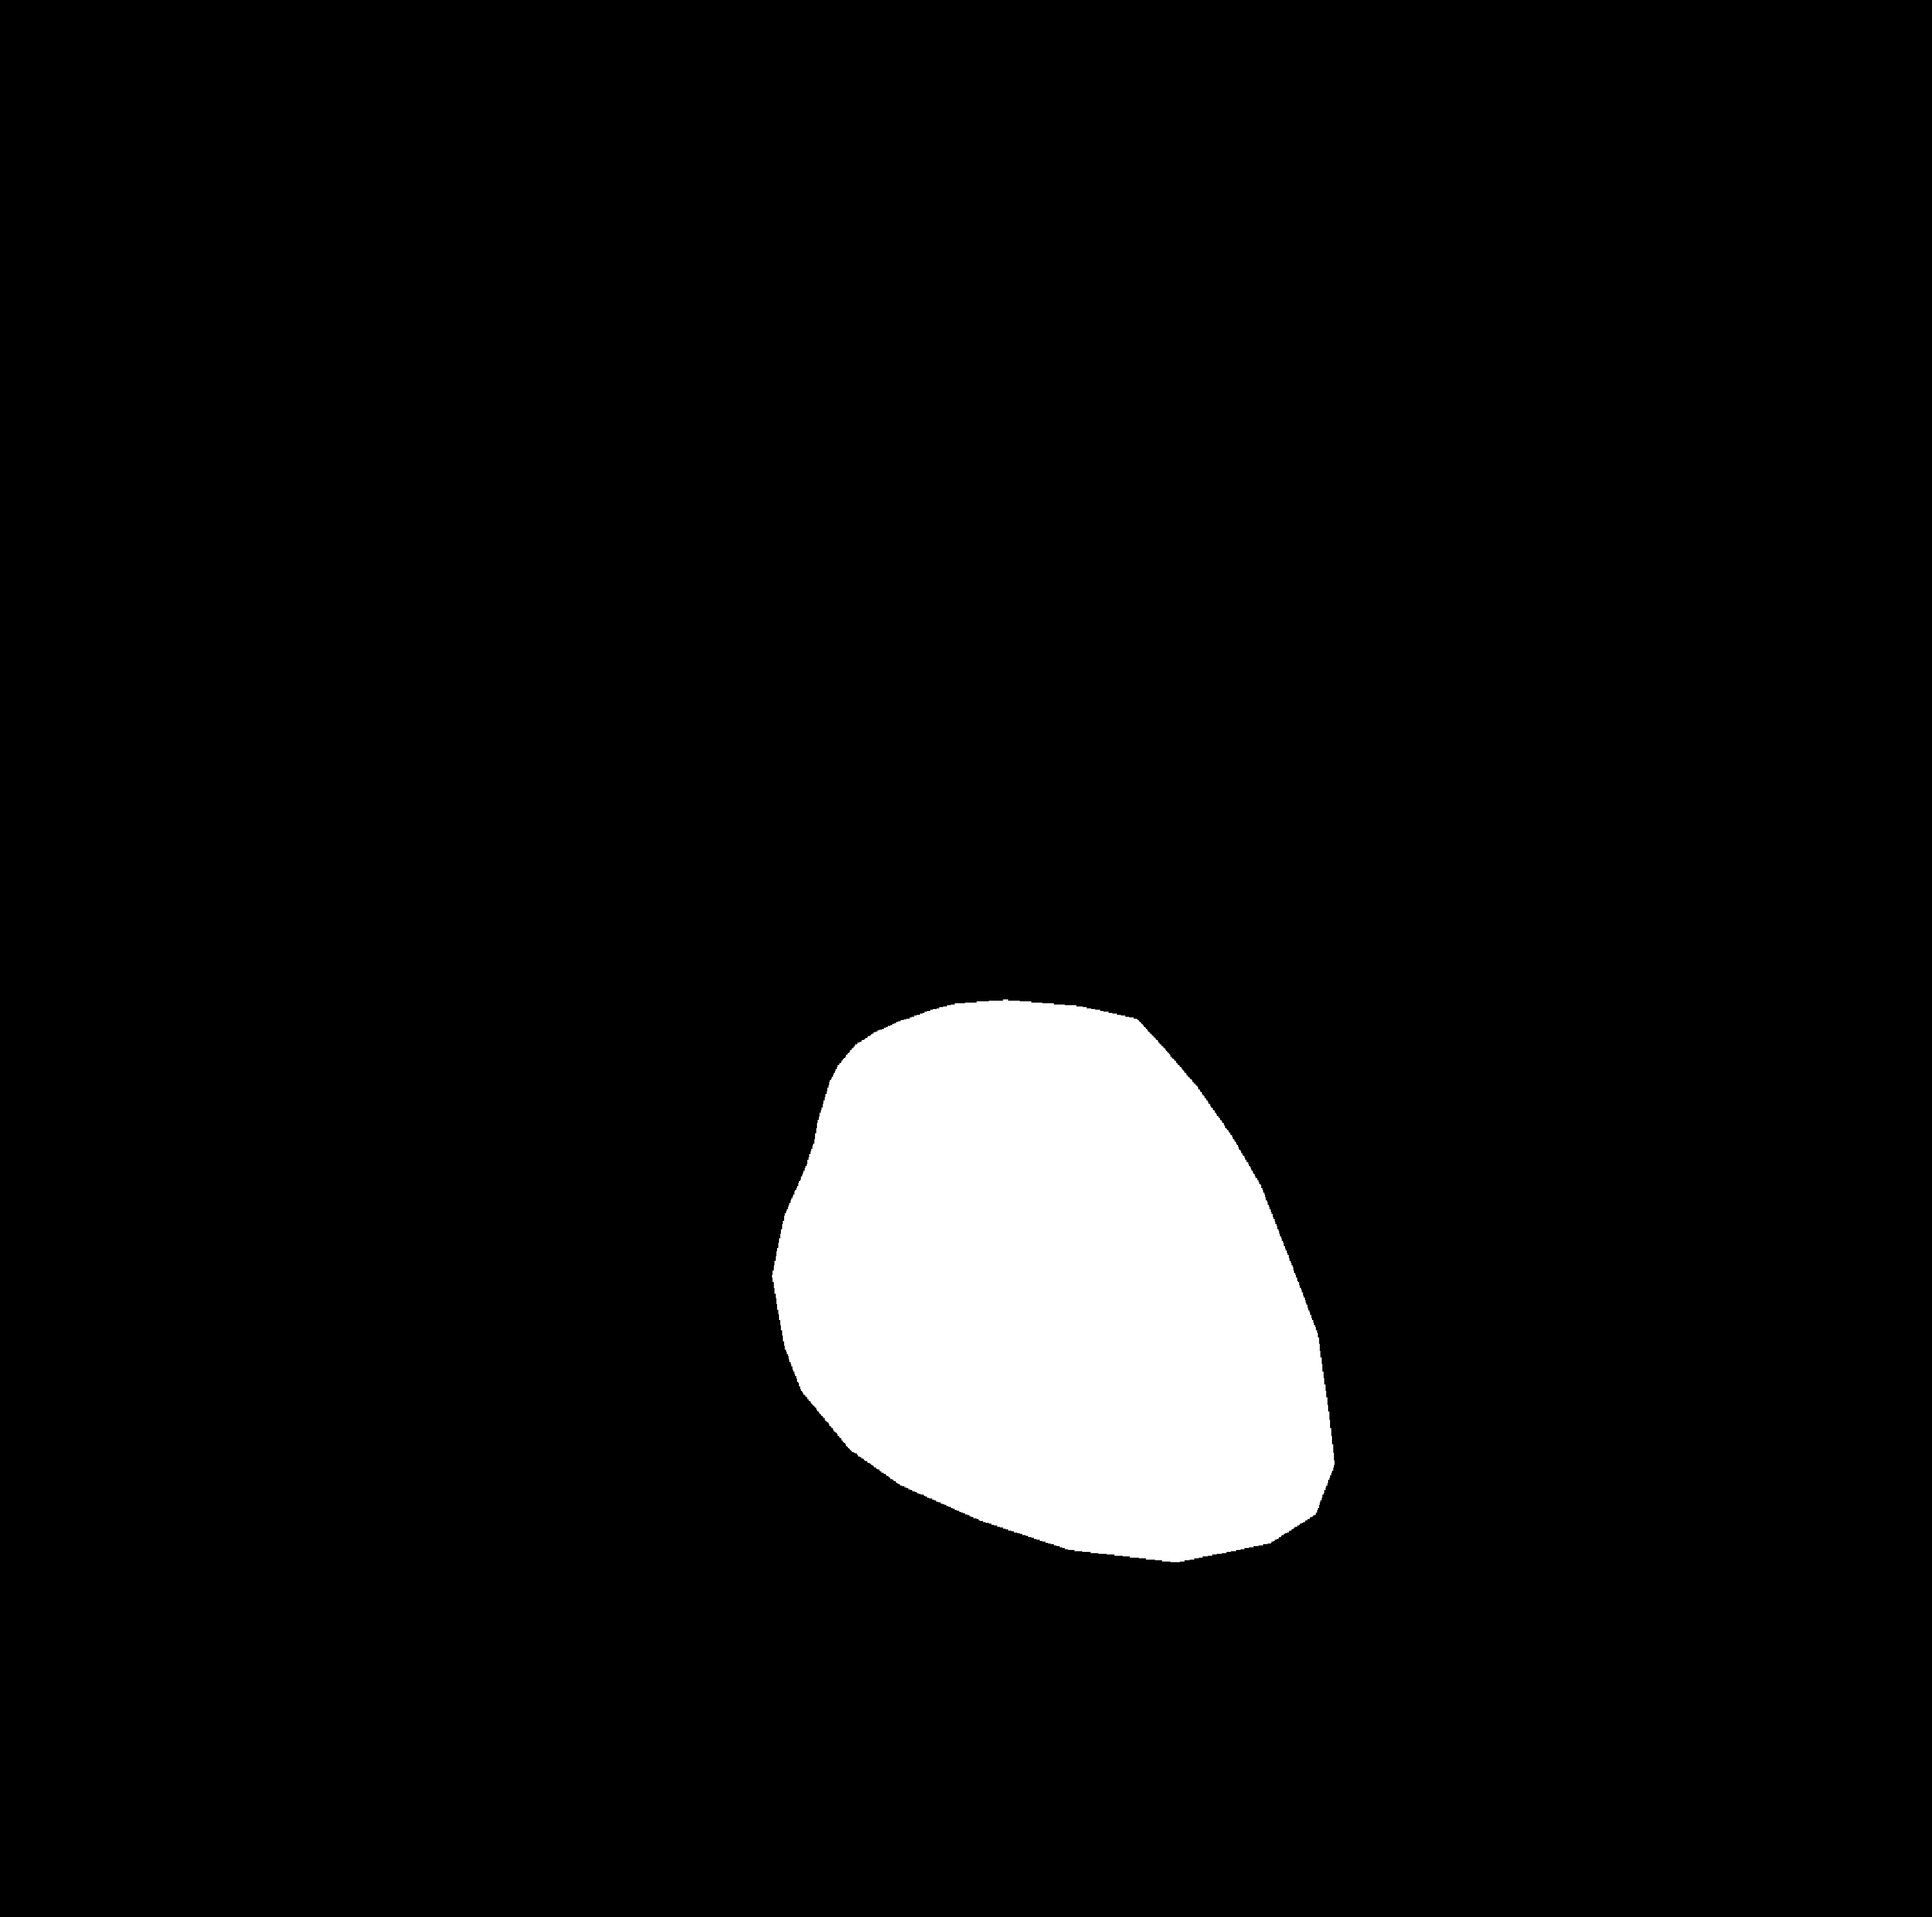heart: (776, 1109, 1325, 1557)
left_lung: (209, 334, 877, 1661)
right_lung: (1048, 353, 1635, 1705)
